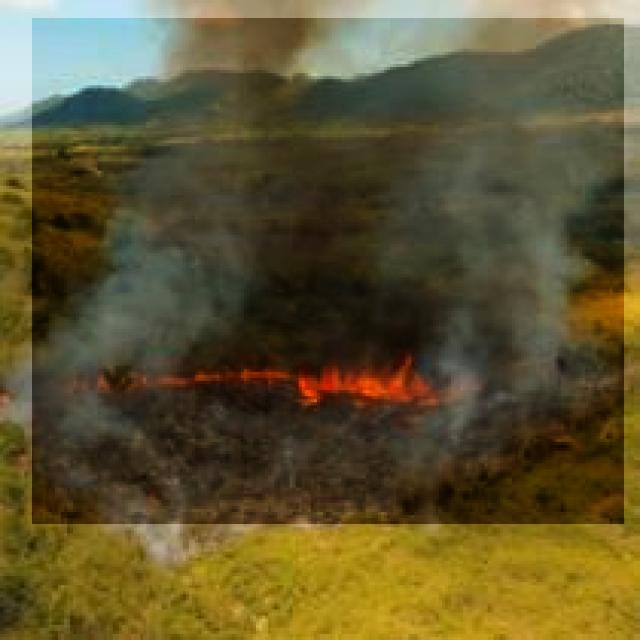Fire: (130, 355, 460, 409)
Smoke: (32, 18, 624, 524)
